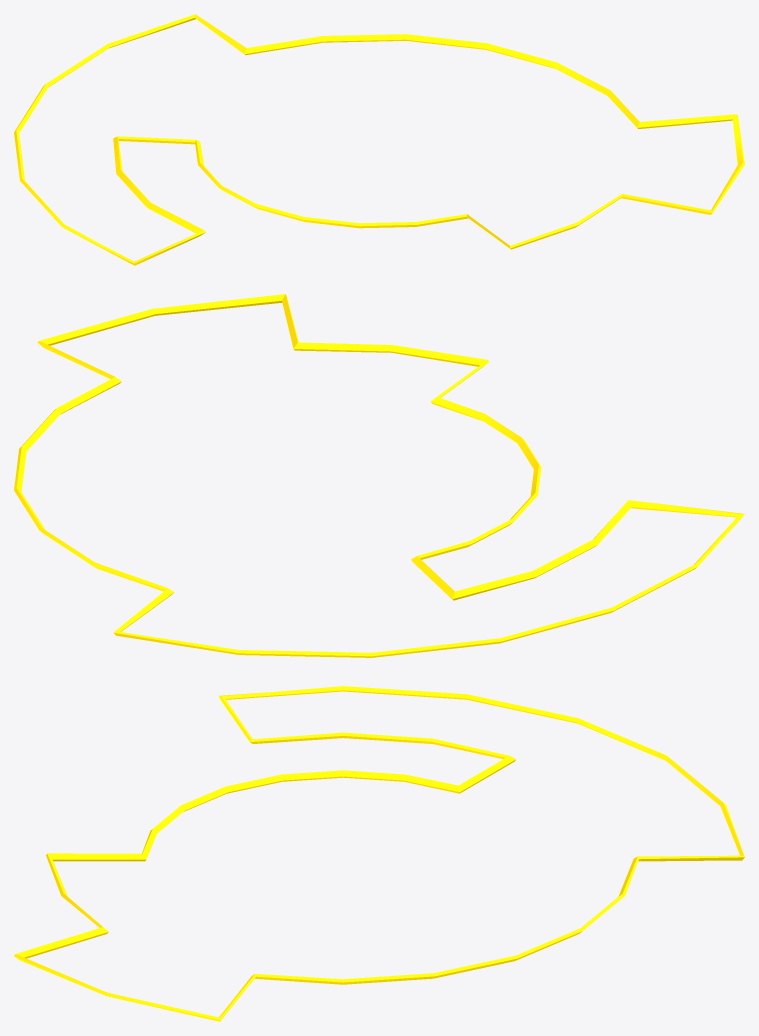
File: light_2.fbx
The picture shows the model from 3 angles, top to bottom: view 1: azimuth 30°, elevation 25°; view 2: azimuth 150°, elevation 25°; view 3: azimuth 270°, elevation 25°; orthographic projection. The views are drawn at different scales.
Visible parts, largest first — view 1: light_2; view 2: light_2; view 3: light_2.
Part boxes in pixels (left/top/right/bottom): light_2: left=14, top=14, right=744, bottom=265; light_2: left=14, top=294, right=744, bottom=657; light_2: left=14, top=686, right=744, bottom=1021.
Bounding box in the file's own units: 14.03 × 0.1322 × 13.01.
